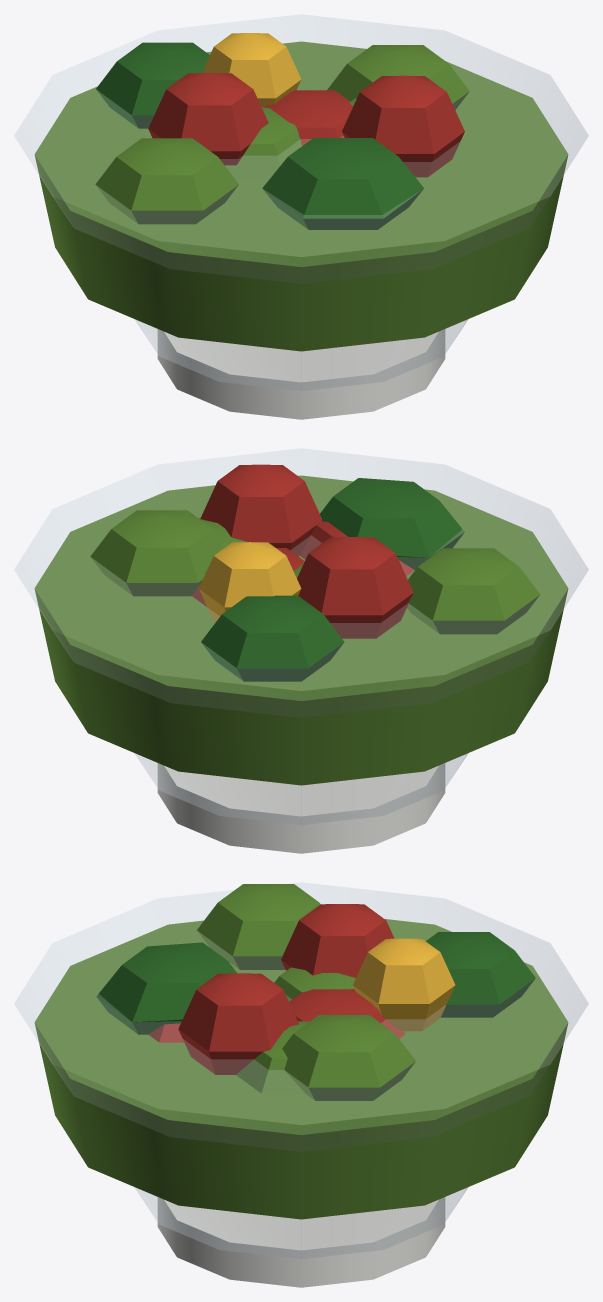
File: tableware_salad.glb
3 views of the same model, one above another, from view 1: azimuth 30°, elevation 25°; view 2: azimuth 150°, elevation 25°; view 3: azimuth 270°, elevation 25° (orthographic).
Visible parts, largest first — view 1: tableware_salad; view 2: tableware_salad; view 3: tableware_salad.
Part boxes in pixels (x1=…): tableware_salad: x1=14, y1=14, x2=588, y2=419; tableware_salad: x1=14, y1=448, x2=588, y2=853; tableware_salad: x1=14, y1=882, x2=588, y2=1287.
Bounding box in the file's own units: 0.28 × 0.155 × 0.28.
